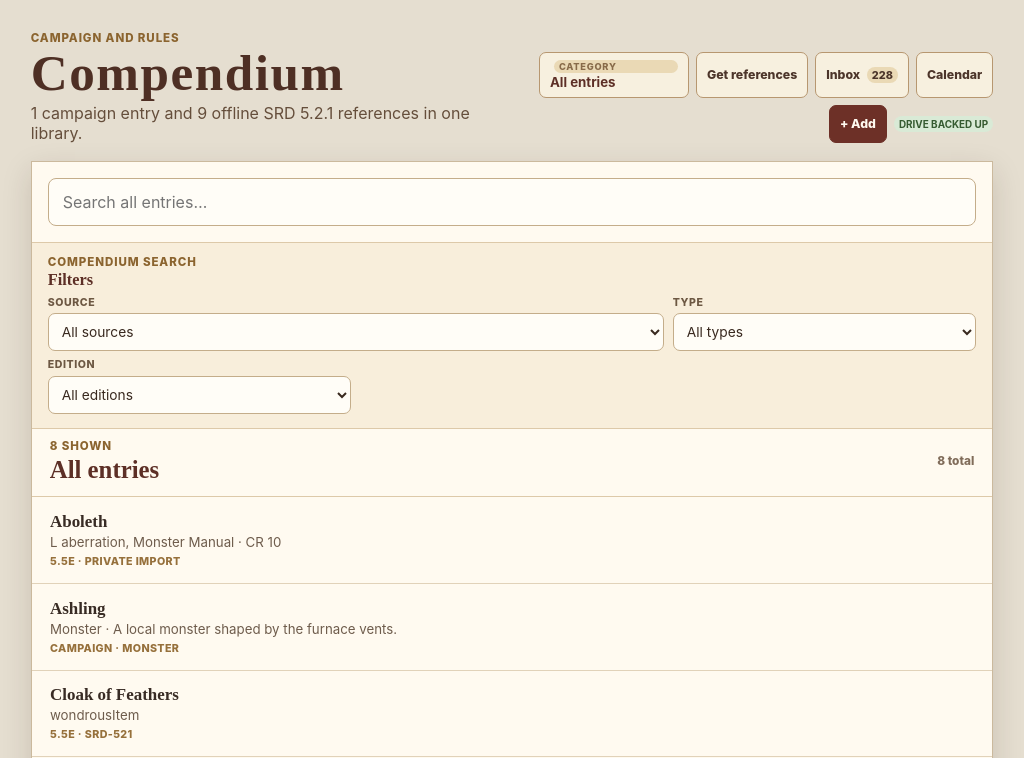
Test: CompendiumPanel › opens a tapped entry as a full-page detail view
Step 1. Click the button with class "compendium-result" that starts with "Aboleth" → {"x": 78, "y": 521}, box [32,497,992,584]
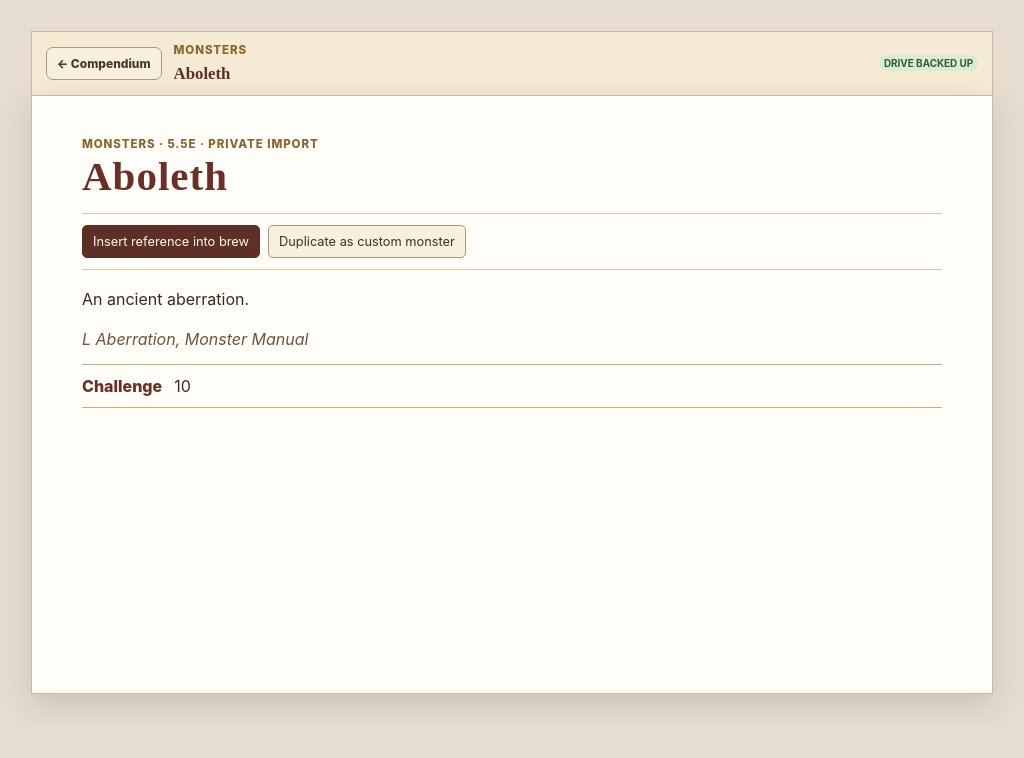
Result: the element with class "compendium-detail-shell" shows "Aboleth" at [174,64,230,83]
Result: the text "Insert reference into brew" is shown at [82,225,260,258]
